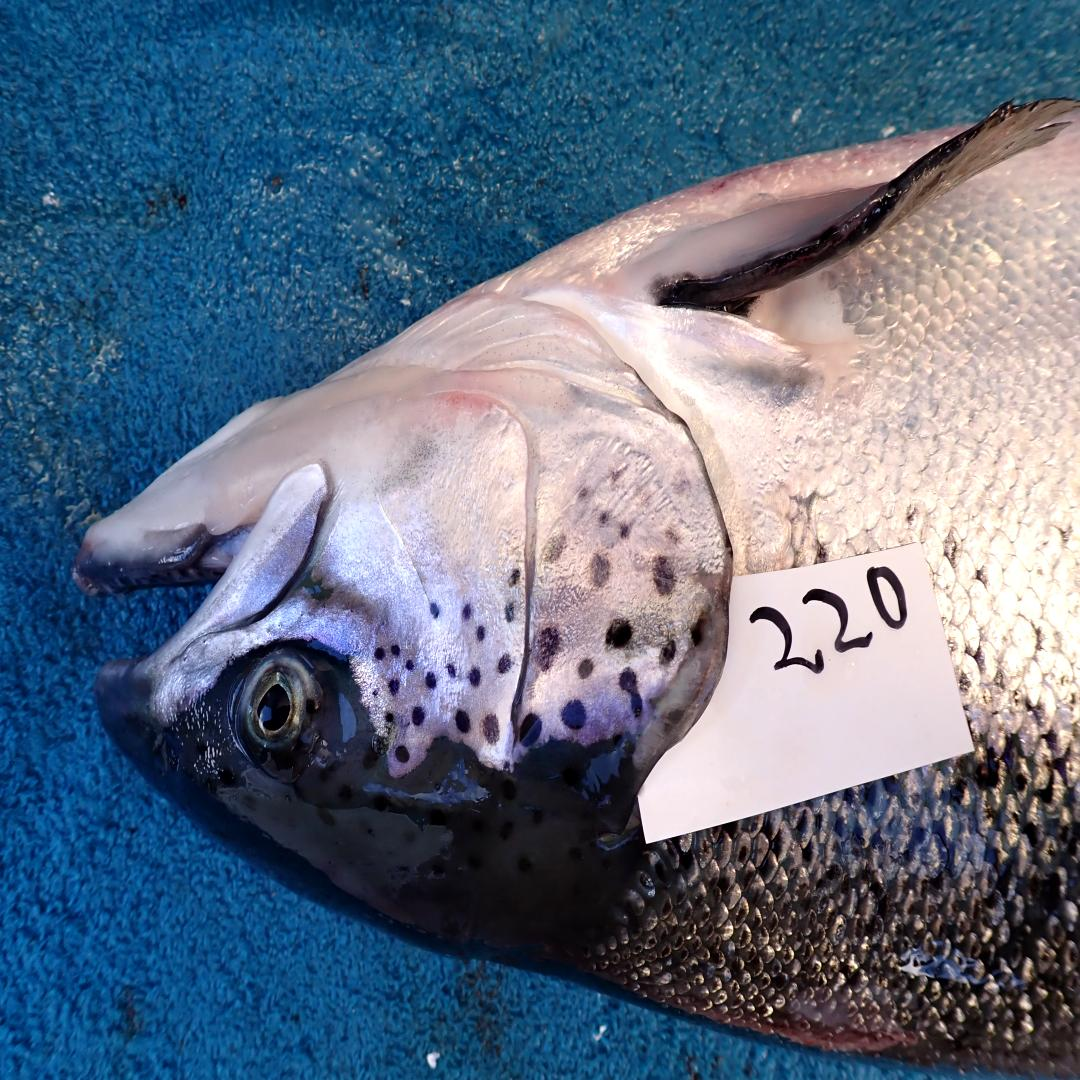roi: (332, 289, 734, 780)
